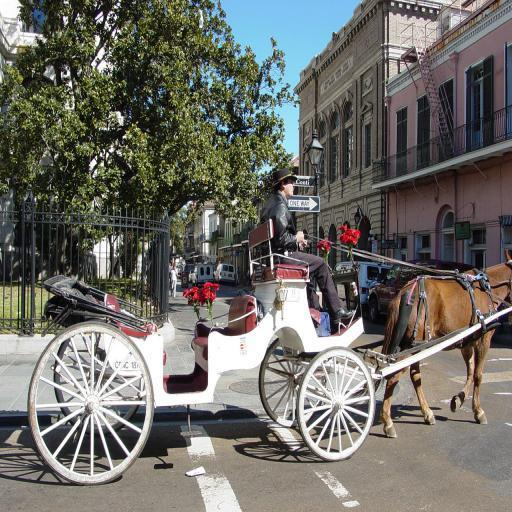horse: (349, 246, 512, 440)
